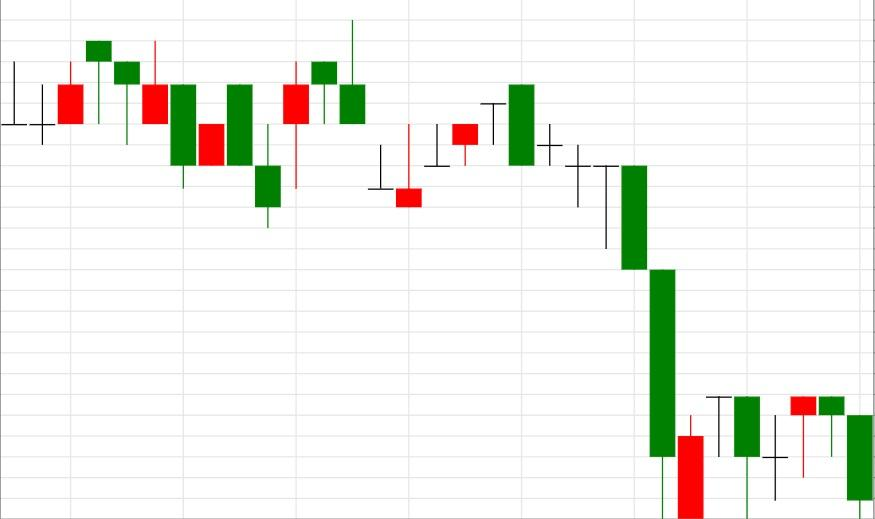hanging_man_fall: (255, 60, 338, 227), (0, 40, 113, 145)
inverse_hammer_rise: (312, 18, 423, 209)
